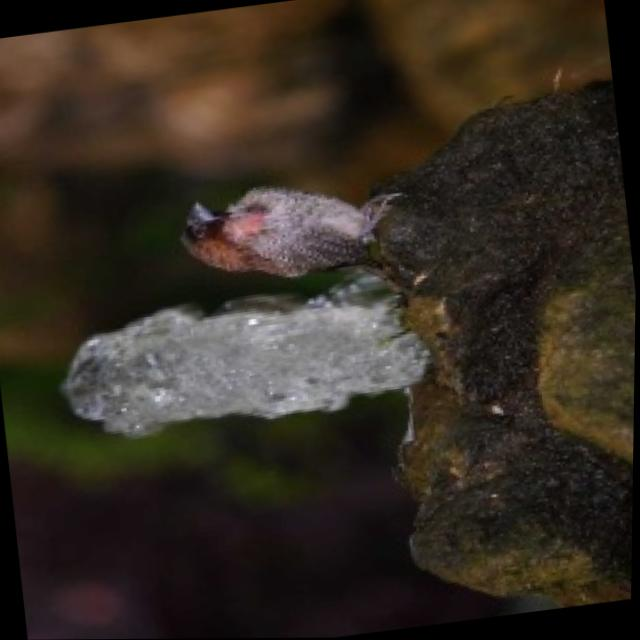sparrow: (168, 159, 415, 310)
